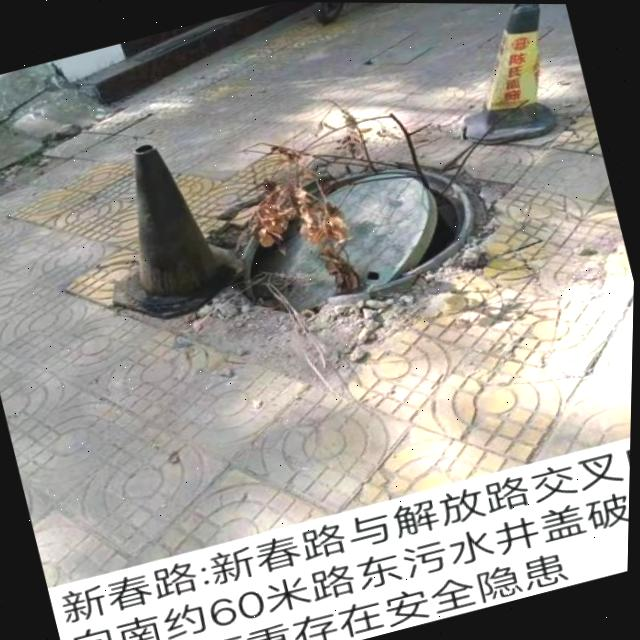manhole: (208, 134, 504, 332)
